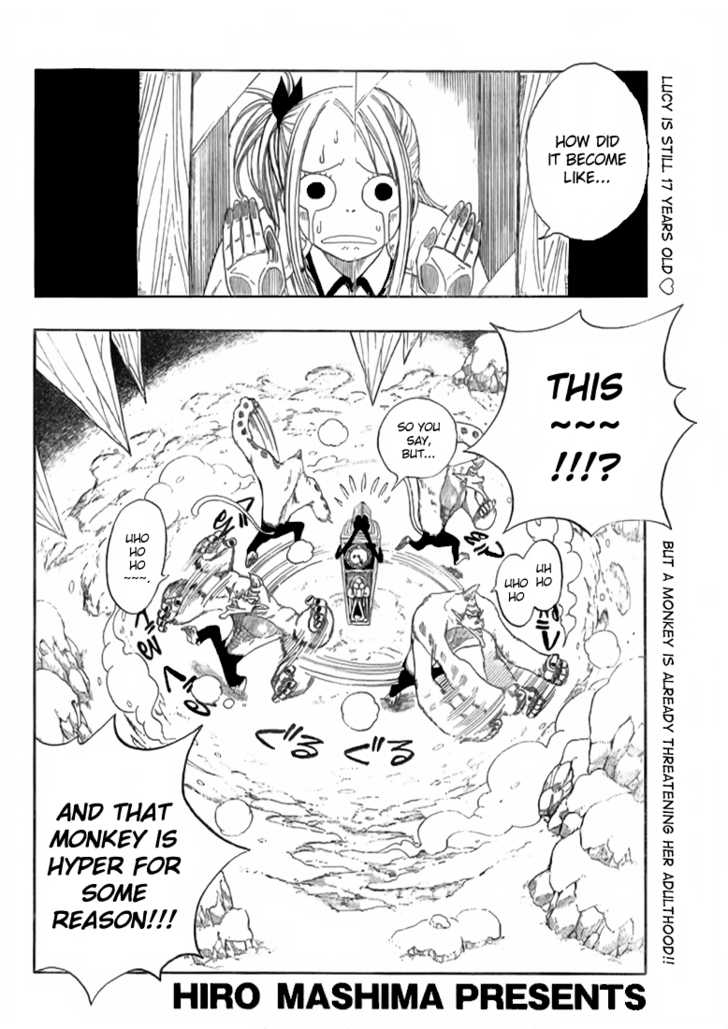bubble: (34, 714, 250, 1003), (464, 305, 696, 537), (526, 63, 650, 241), (377, 397, 457, 490), (106, 500, 169, 614), (492, 554, 534, 627), (523, 540, 562, 611)
